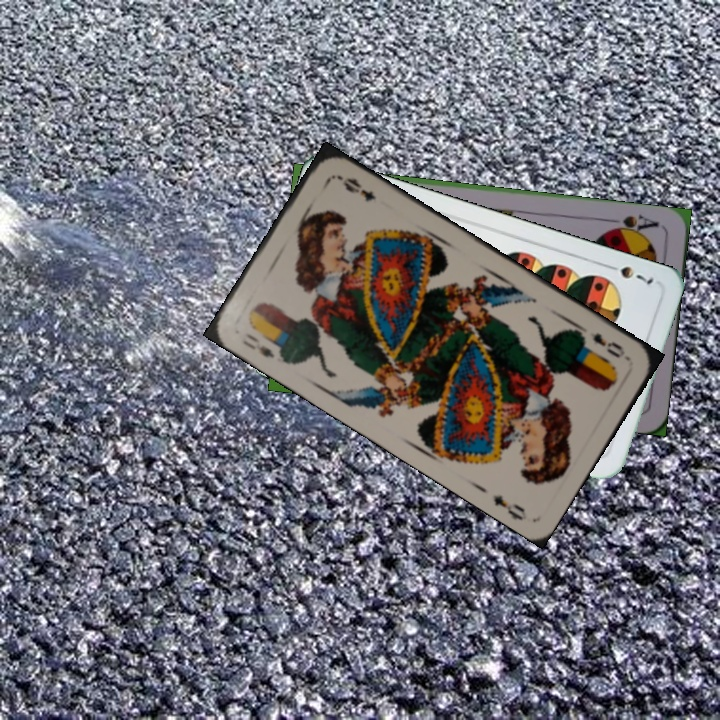EO: (576, 328, 631, 363), (238, 329, 277, 361)
S7: (601, 260, 657, 287)
SA: (603, 210, 661, 238)
